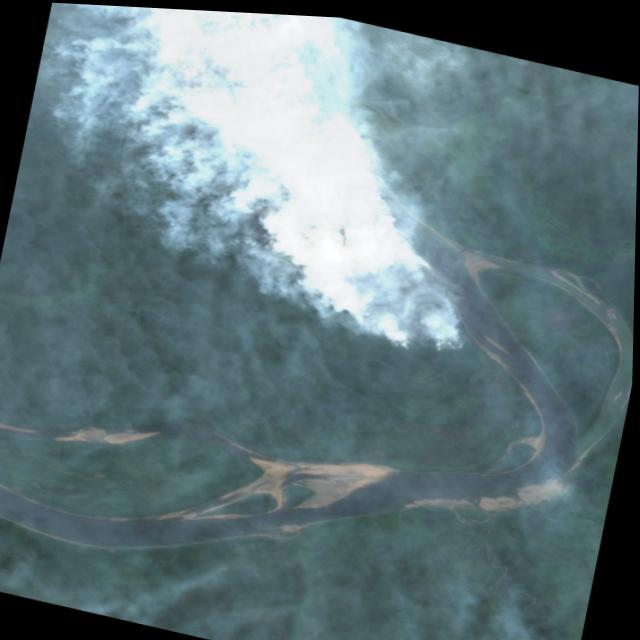fire: (287, 217, 486, 357)
